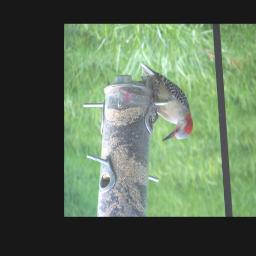Woodpecker: (139, 61, 192, 142)
